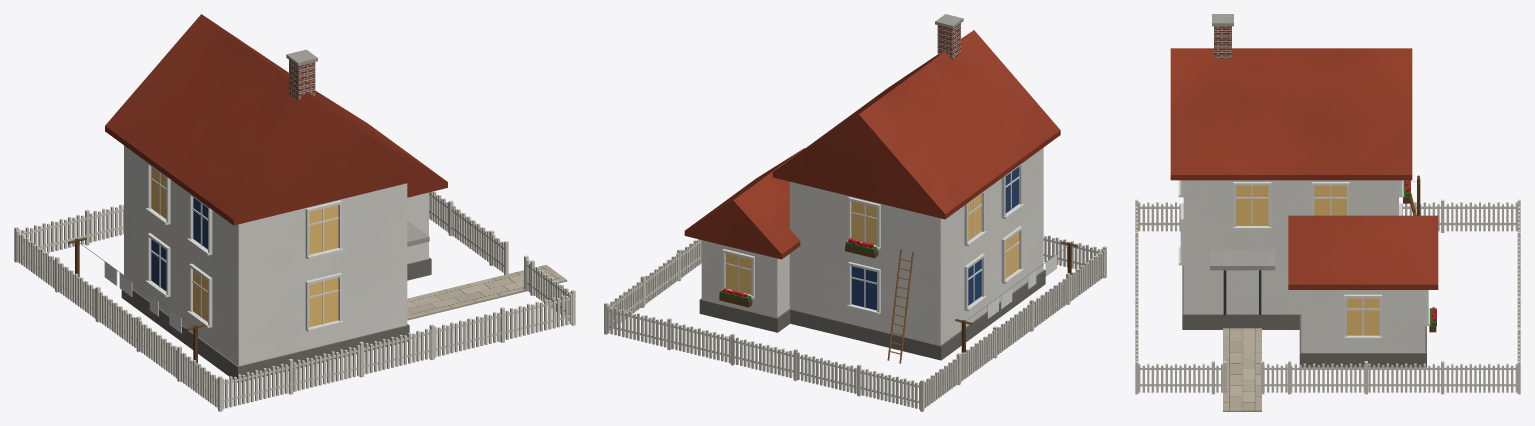
The model's file is dum_1a_domy_3.glb.
The picture shows the model from 3 angles, left to right: view 1: azimuth 30°, elevation 25°; view 2: azimuth 150°, elevation 25°; view 3: azimuth 270°, elevation 25°; orthographic projection. The views are drawn at different scales.
Visible parts, largest first — view 1: dum, noc; view 2: dum, noc; view 3: dum, noc.
Boxes of the visible parts, <box> form: dum: <box>14,14,575,411</box>; noc: <box>151,167,338,326</box>; dum: <box>604,14,1106,411</box>; noc: <box>725,194,1018,294</box>; dum: <box>1135,14,1520,411</box>; noc: <box>1236,185,1379,335</box>.
Size of the model in its own units: 13.07 by 9.18 by 11.79.
Materials: 1 (1 with a texture image).
